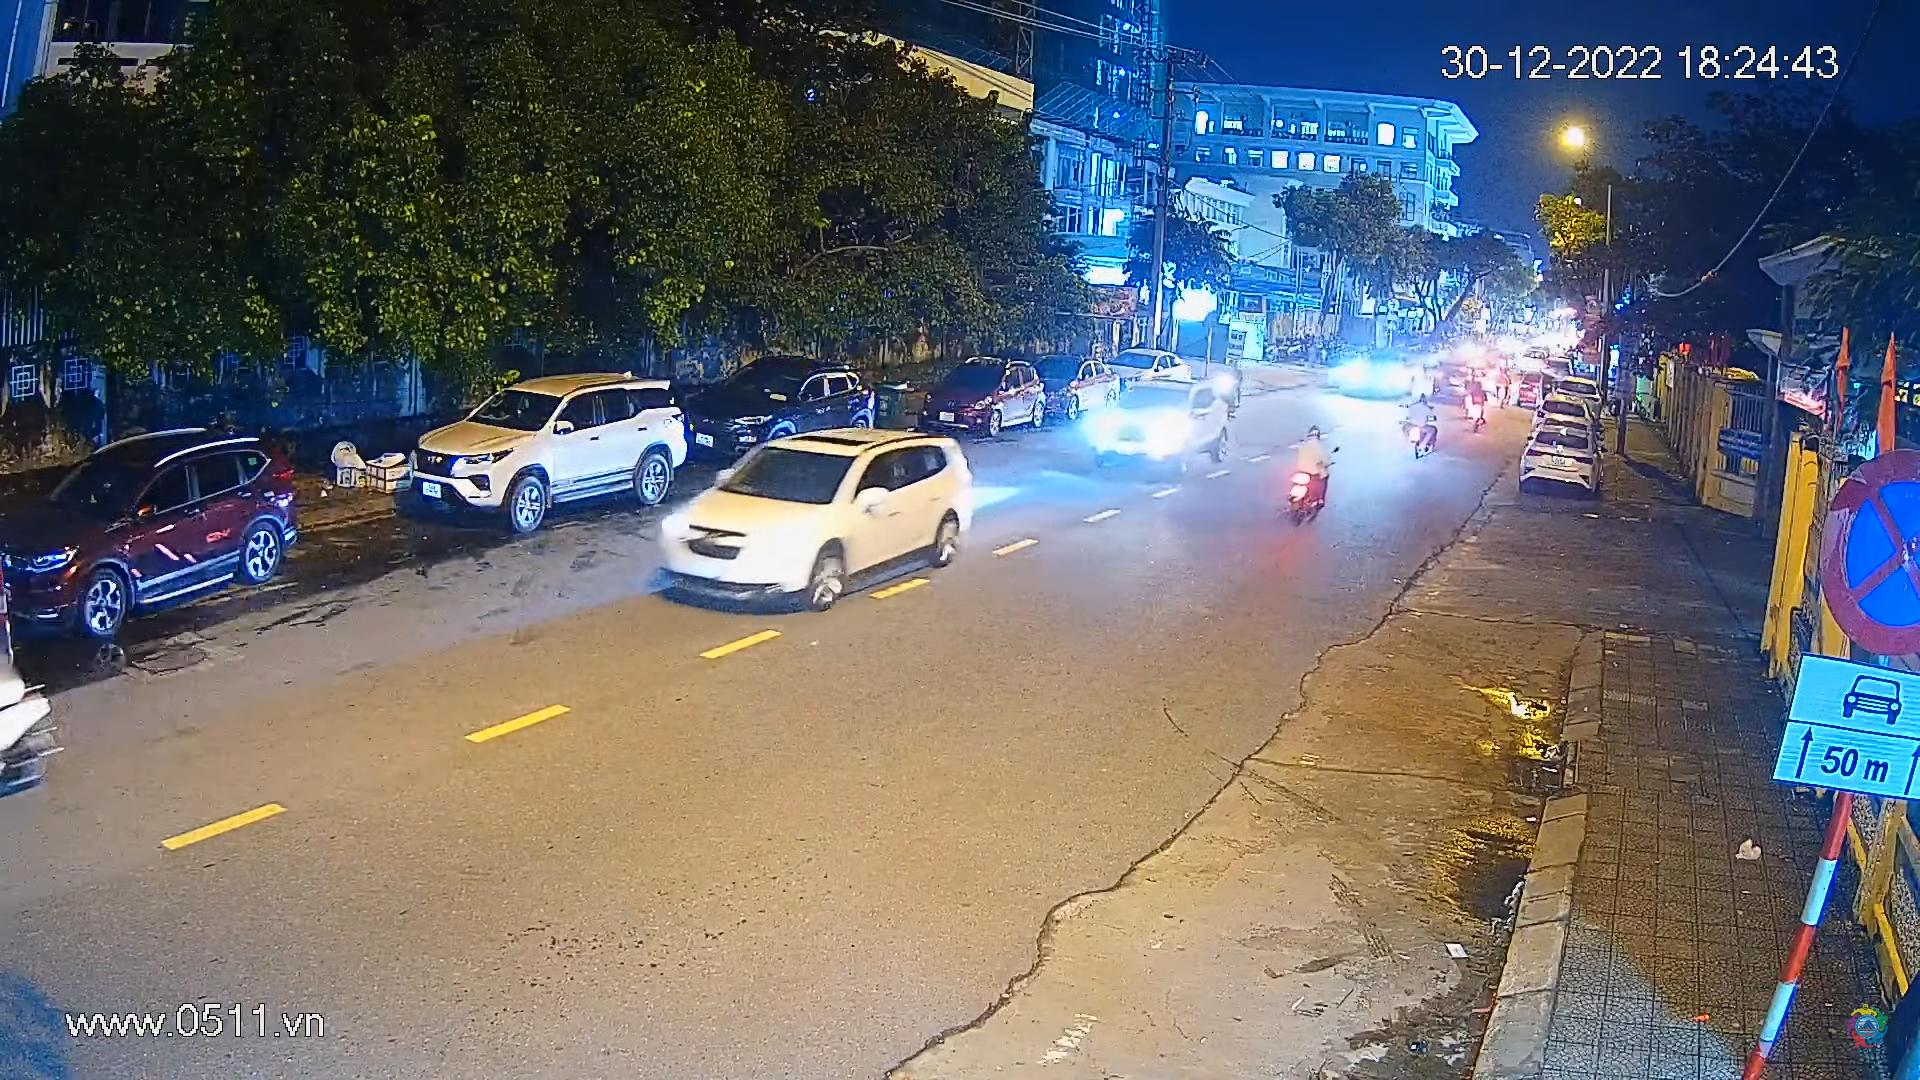car: (654, 415, 990, 620), (0, 418, 306, 642), (404, 371, 687, 535), (684, 357, 878, 464), (1087, 380, 1246, 476), (920, 353, 1051, 444), (1513, 417, 1602, 496), (1044, 344, 1125, 422), (1104, 348, 1189, 396), (1338, 351, 1416, 397), (1432, 357, 1487, 406), (1542, 376, 1604, 417), (1520, 369, 1544, 409)
motorcycle: (1276, 418, 1345, 531), (1394, 396, 1451, 469), (1465, 378, 1486, 435)
